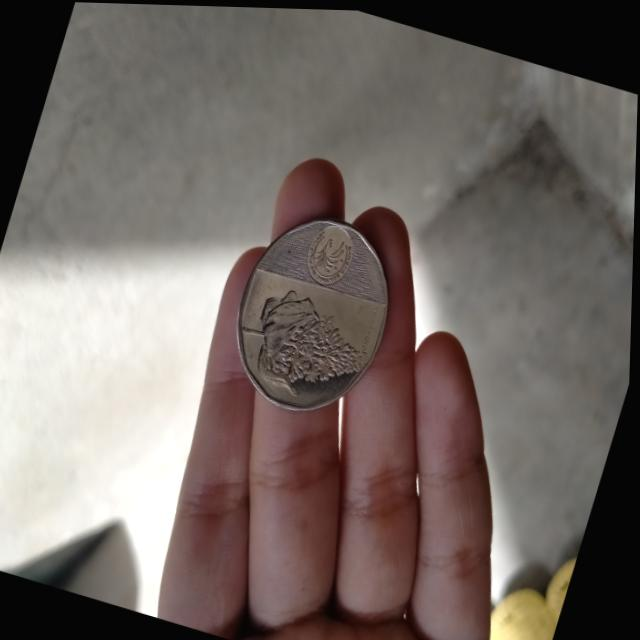10_New_Back: (220, 275, 389, 413)
